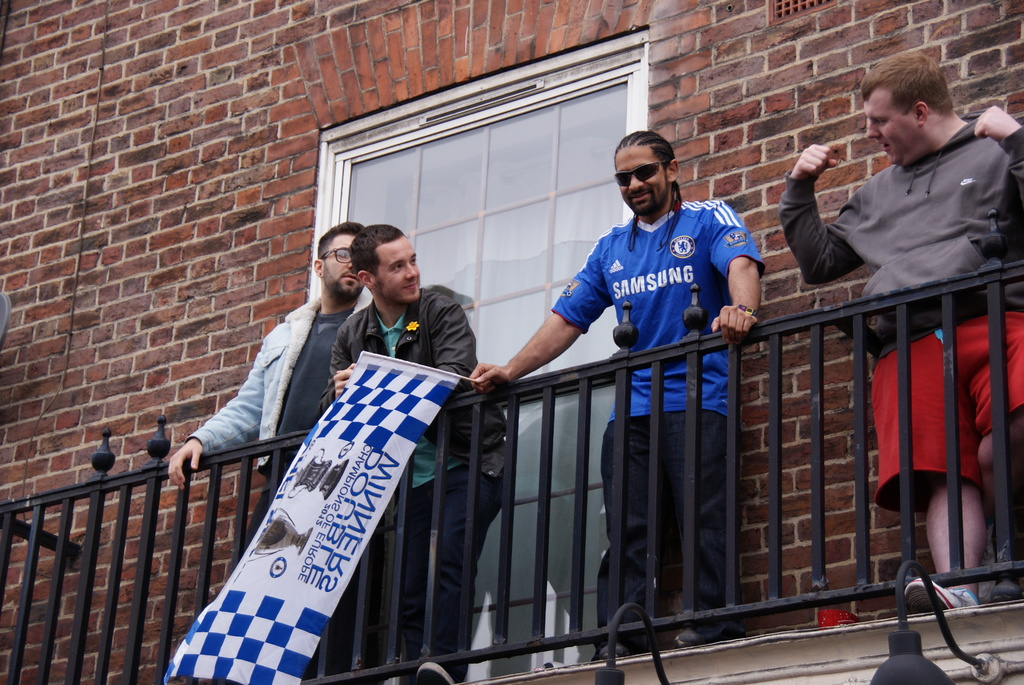Footwear: (906, 574, 977, 611), (686, 608, 739, 645), (413, 659, 459, 684), (596, 632, 629, 663)
